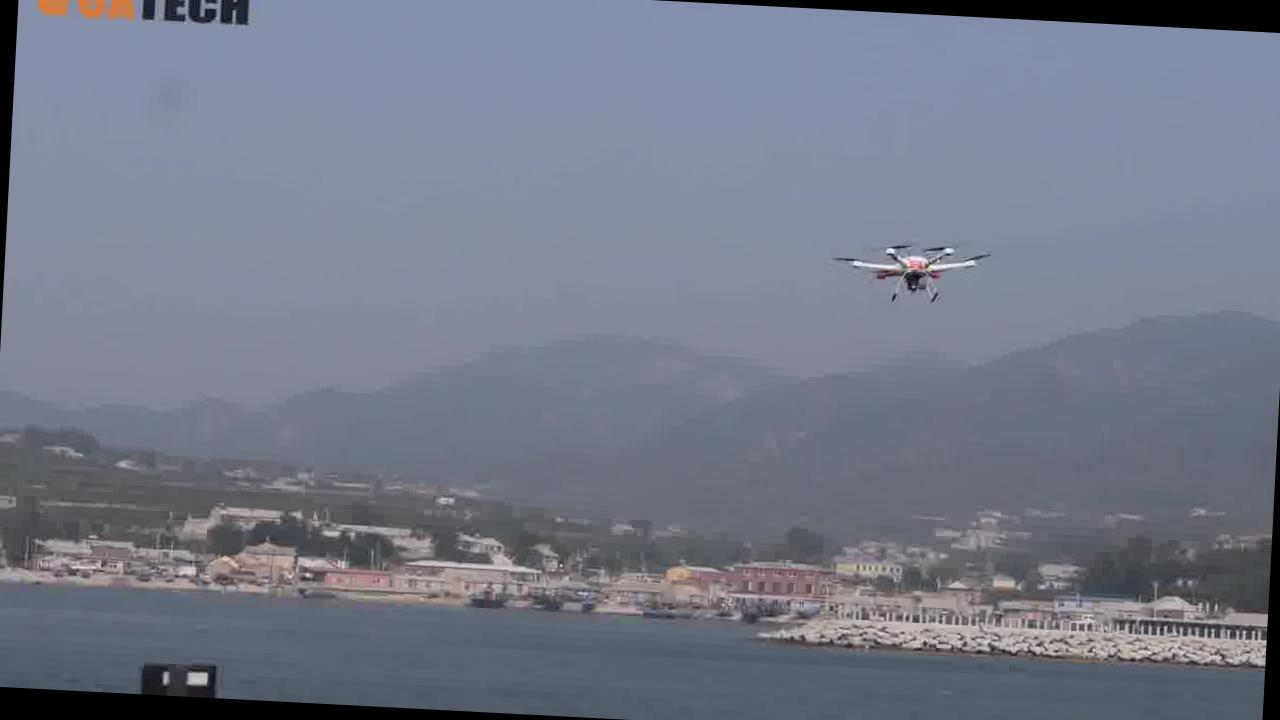drone: (826, 235, 996, 316)
